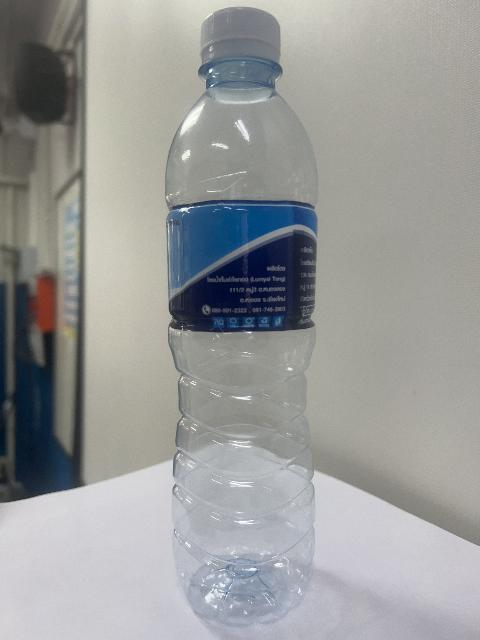bottle: (166, 8, 317, 625)
